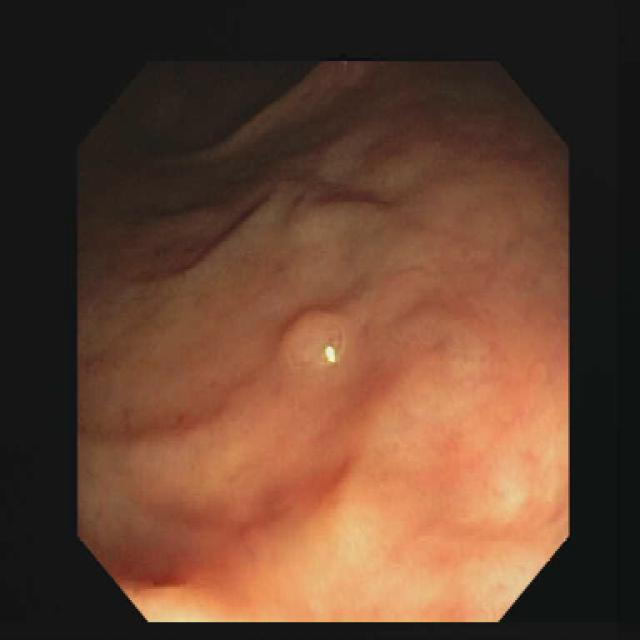tumor: (265, 309, 362, 367)
